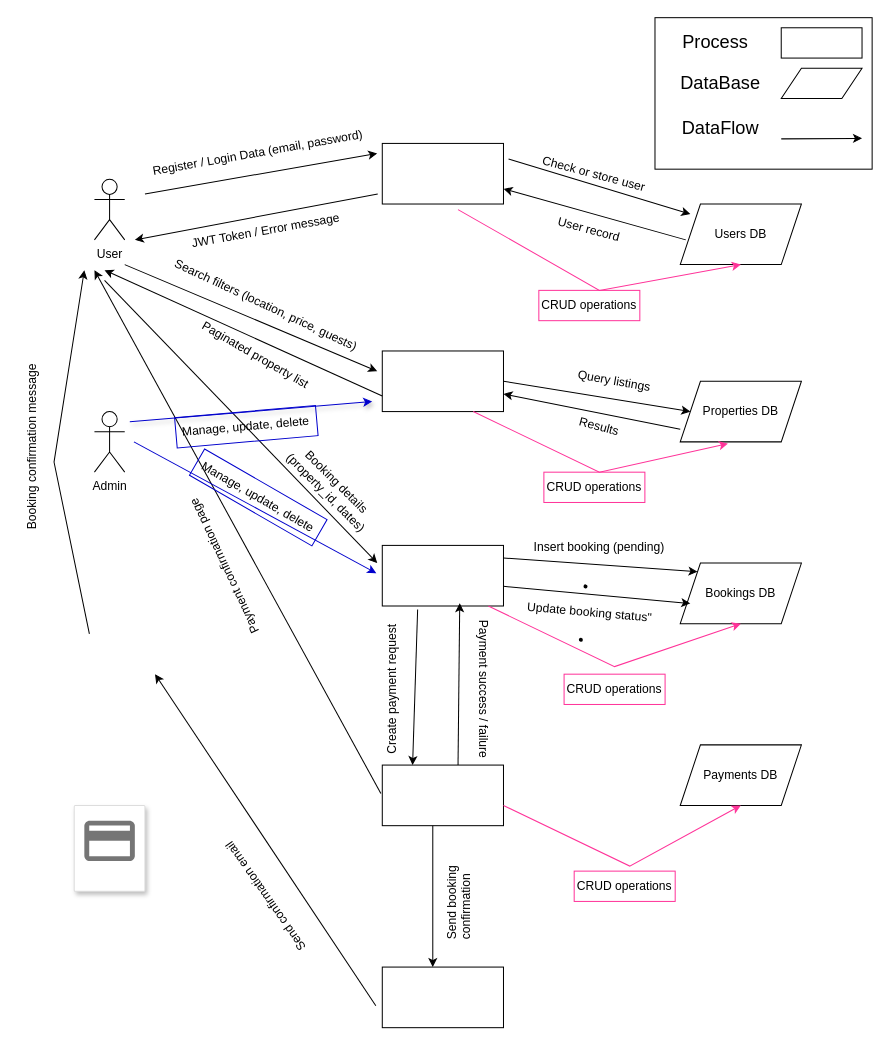
This 890x1045 diagram has some shape labels left out. Each missing label, with the centre of its shape:
Auth Service: point (442, 173)
Booking Service: point (442, 575)
Notification Service: point (442, 997)
Payment: point (110, 849)
Payment Processor: point (442, 795)
Property Service: point (442, 381)
